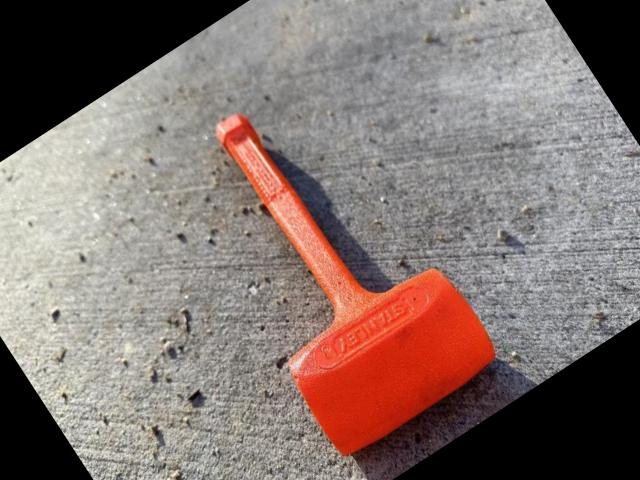hammer: (152, 58, 507, 462)
